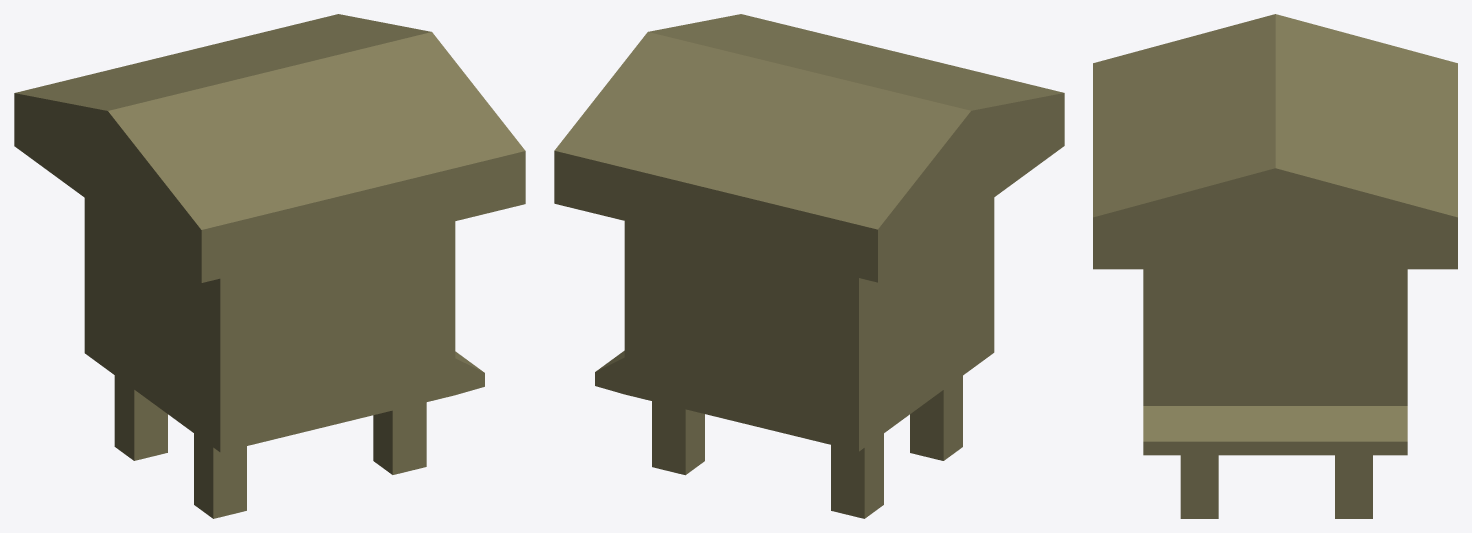
The model's file is apiary.fbx.
The picture shows the model from 3 angles, left to right: view 1: azimuth 30°, elevation 25°; view 2: azimuth 150°, elevation 25°; view 3: azimuth 270°, elevation 25°; orthographic projection. The views are drawn at different scales.
Visible parts, largest first — view 1: Cube.004; view 2: Cube.004; view 3: Cube.004.
Boxes of the visible parts, x1,y1,x2,y2 form: Cube.004: (14,14,525,518); Cube.004: (554,14,1064,518); Cube.004: (1093,14,1457,518).
Bounding box in the file's own units: 398 × 453 × 398.
